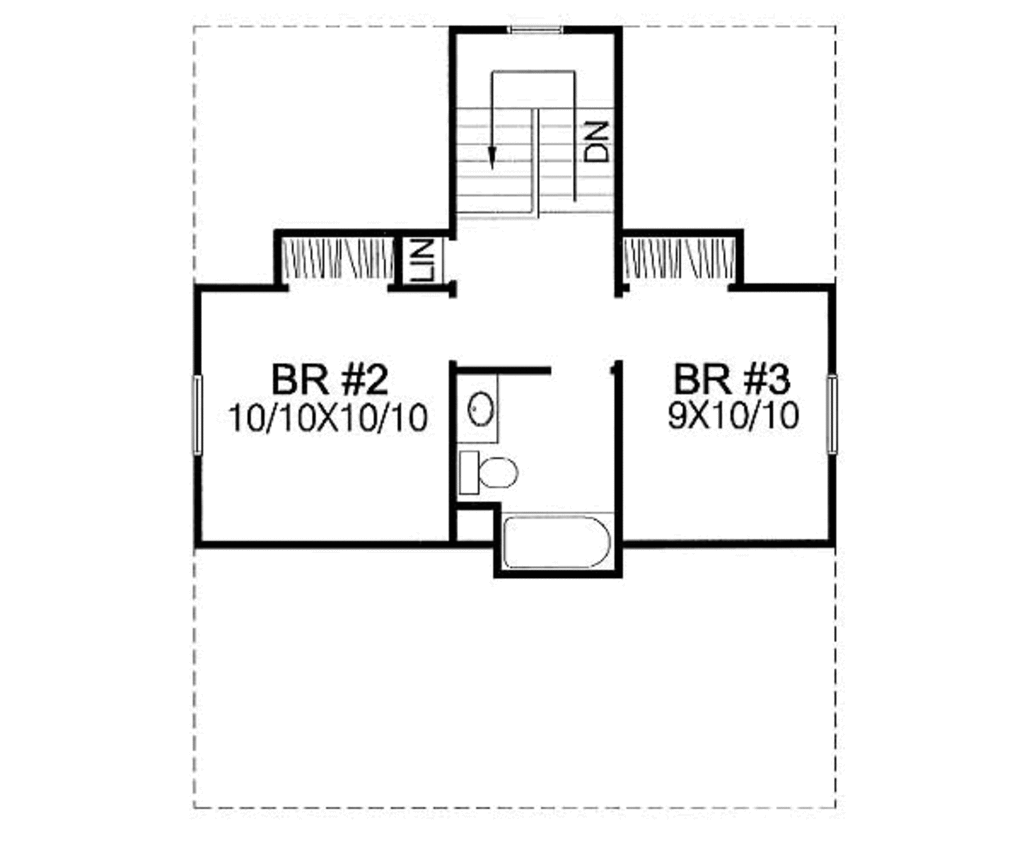large_sink: (445, 443, 529, 500)
small_sink: (454, 376, 511, 447)
stairs: (453, 43, 624, 238)
tub: (501, 506, 621, 573)
window: (825, 373, 845, 460), (192, 375, 207, 457), (504, 21, 567, 34)
